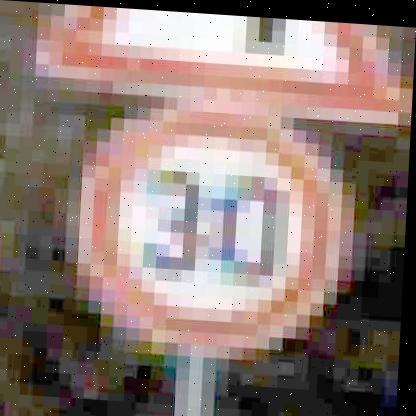Speed Limit -30-: (74, 95, 350, 352)
